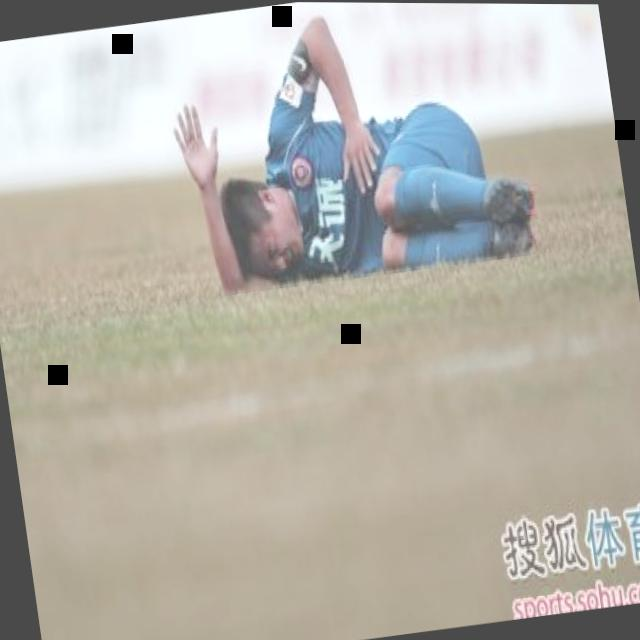Fall-Detected: (145, 1, 551, 315)
